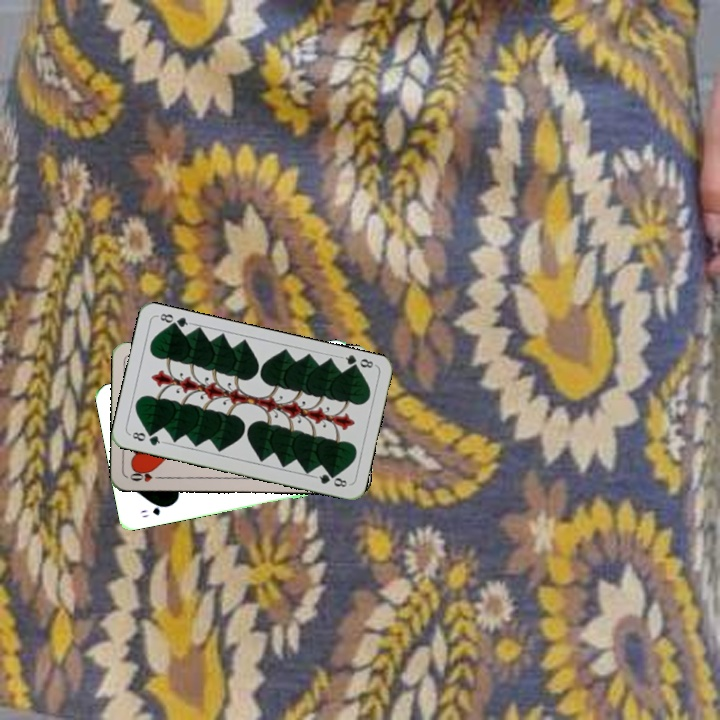G8: (337, 351, 378, 374), (126, 428, 166, 448)
GO: (136, 501, 172, 520)
HO: (126, 466, 166, 484)
